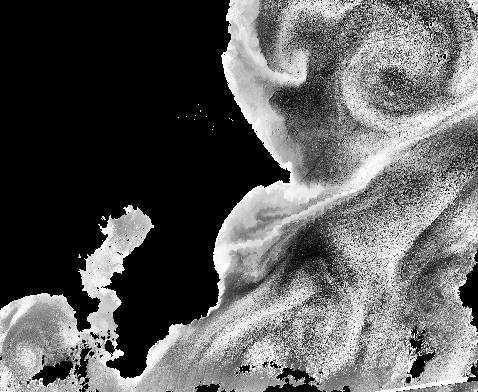CE: (336, 30, 455, 136), (7, 340, 44, 376)
